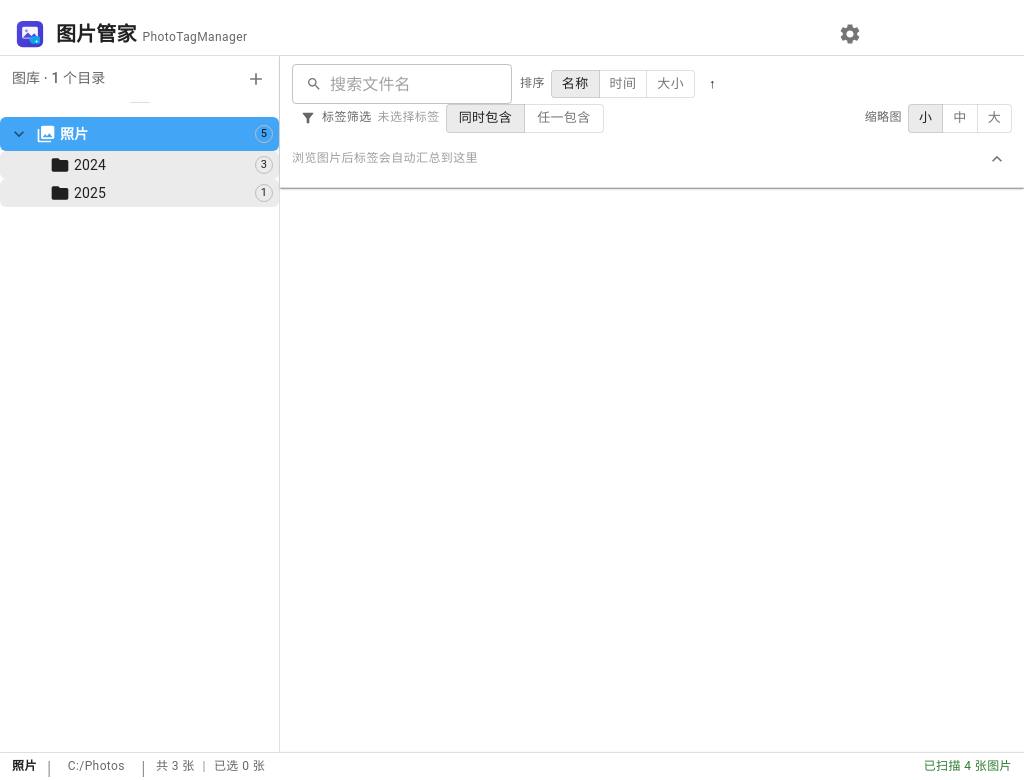
Test case: 左栏右键菜单的「取消隐藏」区 › 右键子目录时隐藏后代标签按相对该目录的路径显示，不重复带祖先前缀
Right-click the list item named "2024，" at [140, 165], box [0,151,279,179]
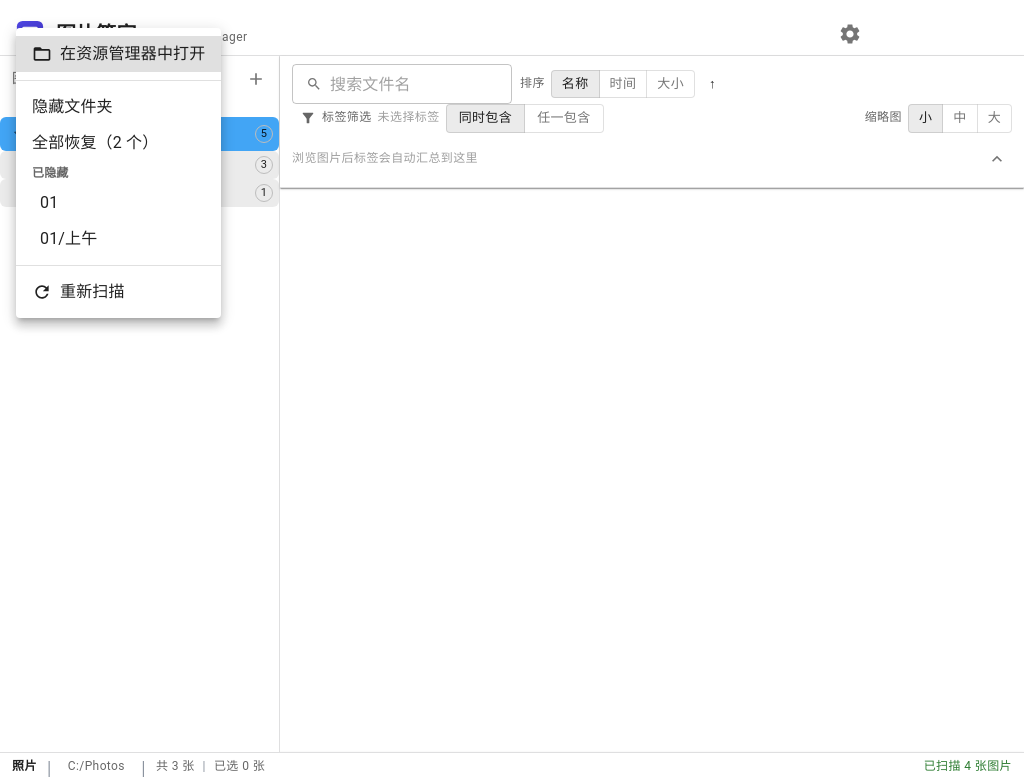
Now the menu item "全部恢复（2 个）" is shown, box [32,133,158,152]
Now the menu item "01" is shown, box [40,193,58,212]
Now the menu item "01/上午" is shown, box [40,229,97,248]
